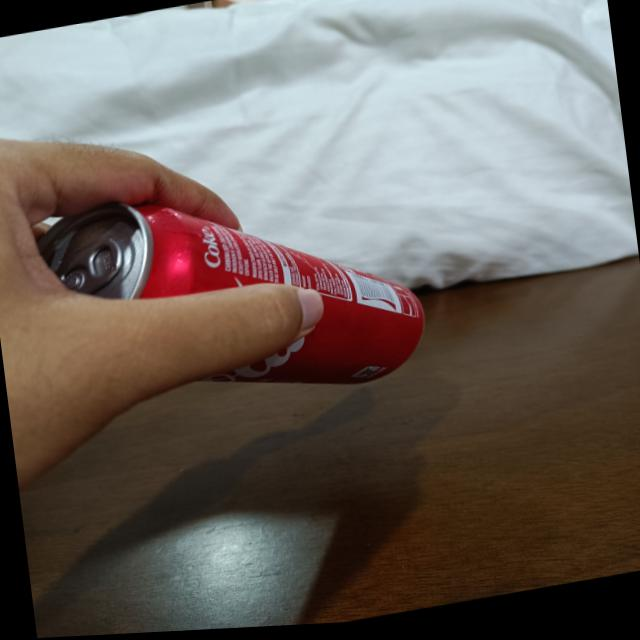coke: (35, 153, 435, 439)
